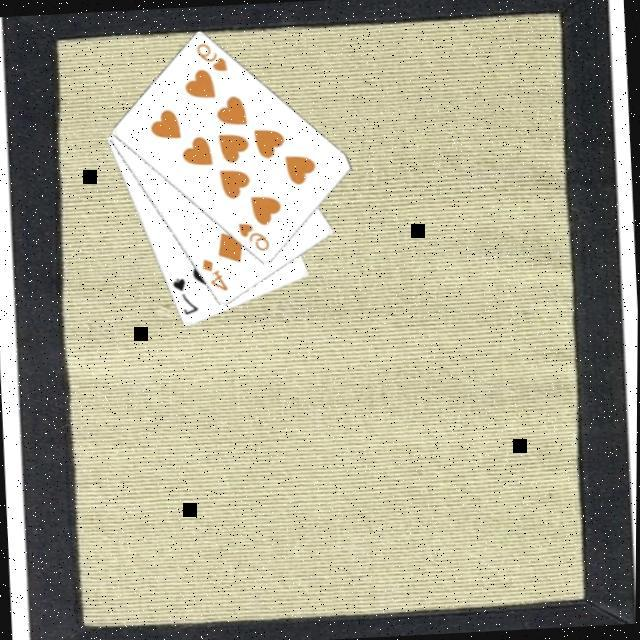4D: (199, 254, 232, 294)
7S: (170, 272, 202, 318)
9H: (193, 37, 231, 75), (236, 217, 274, 253)
